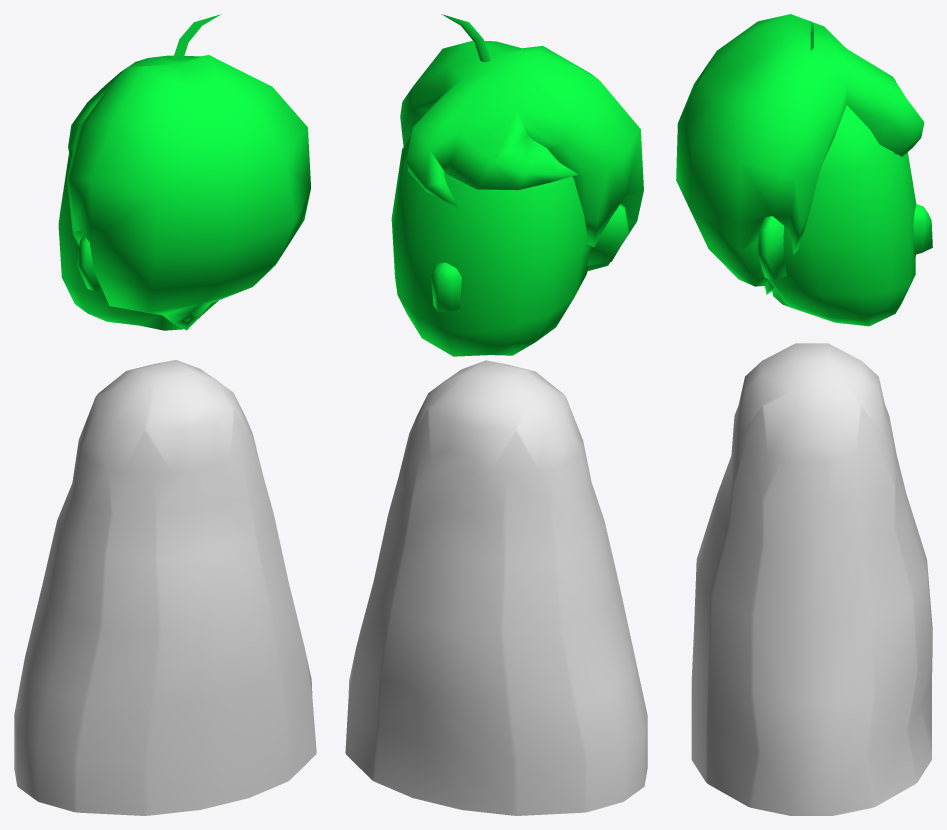
Rendered from curious_boy_1.glb.
3 renders of one model, left to right at view 1: azimuth 30°, elevation 25°; view 2: azimuth 150°, elevation 25°; view 3: azimuth 270°, elevation 25°, orthographic.
Parts seen in each view (by area): view 1: body, head; view 2: body, head; view 3: body, head.
Part boxes in pixels (bbox=[...]): body: bbox=[14, 360, 316, 815]; head: bbox=[58, 14, 310, 330]; body: bbox=[345, 360, 647, 815]; head: bbox=[391, 14, 643, 356]; body: bbox=[691, 343, 932, 815]; head: bbox=[676, 14, 932, 326].
Bounding box in the file's own units: 0.4347 × 1.11 × 0.3464.
